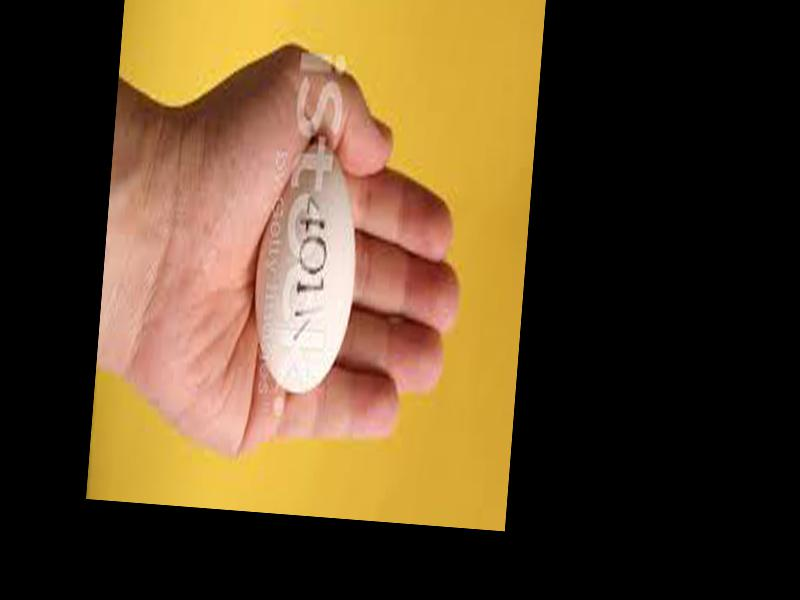Eggs: (248, 138, 364, 396)
